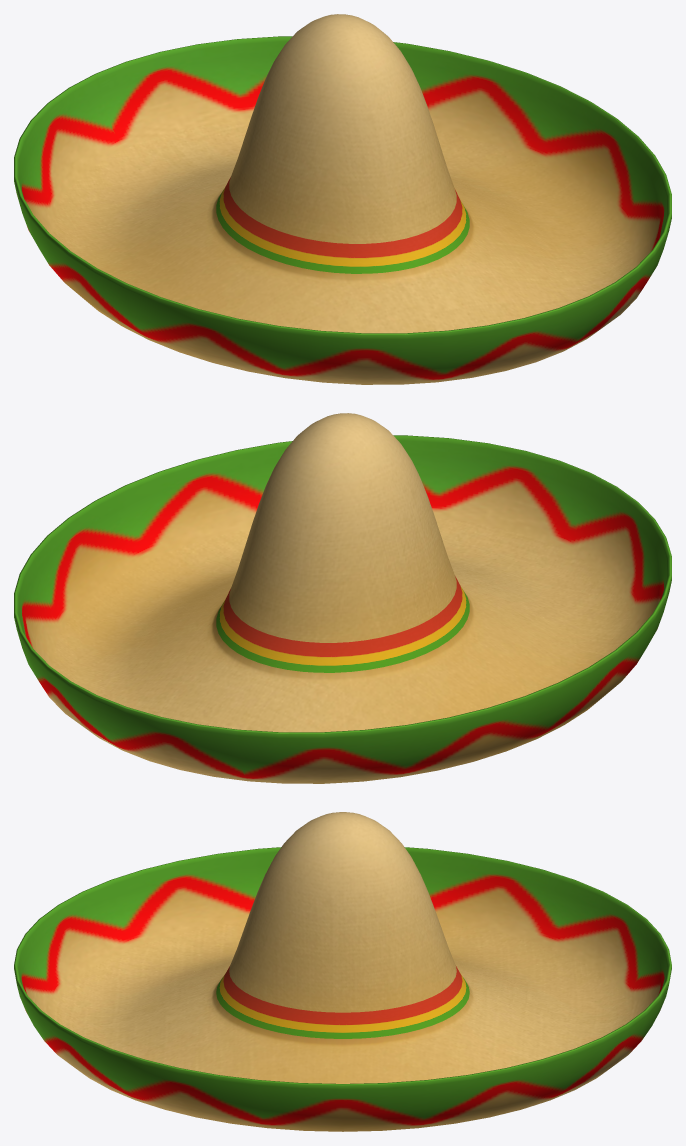
The model's file is MexicanHat.fbx.
3 views of the same model, one above another, from view 1: azimuth 30°, elevation 25°; view 2: azimuth 150°, elevation 25°; view 3: azimuth 270°, elevation 25° (orthographic). The views are drawn at different scales.
Parts seen in each view (by area): view 1: MexicanHat; view 2: MexicanHat; view 3: MexicanHat.
Boxes of the visible parts, <box> form: MexicanHat: <box>14,14,671,384</box>; MexicanHat: <box>14,413,671,783</box>; MexicanHat: <box>14,812,671,1131</box>.
Bounding box in the file's own units: 57.21 × 24.56 × 66.05.
